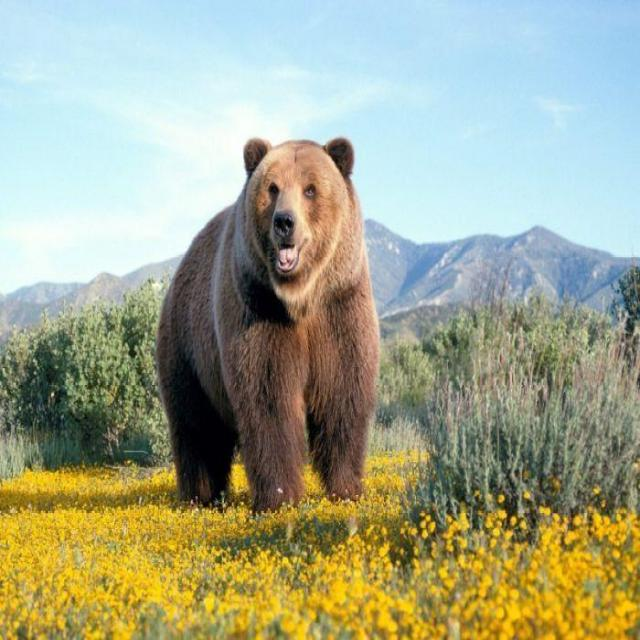Bear: (155, 138, 381, 517)
